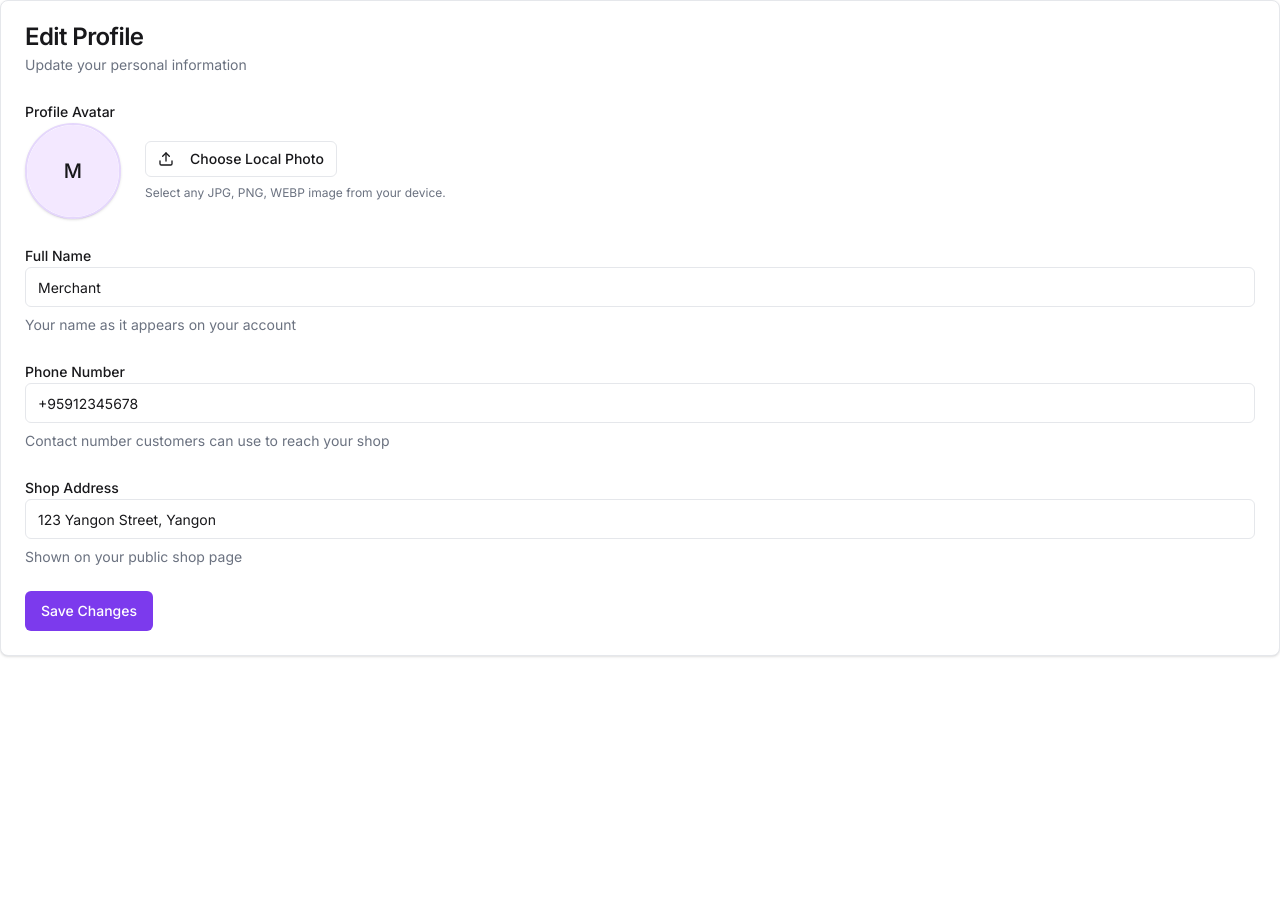
Test: ProfileForm shop contact fields › blocks saving when a merchant clears only the name
Clear the field labelled "Full Name" at (640, 287), box [25,267,1255,307]
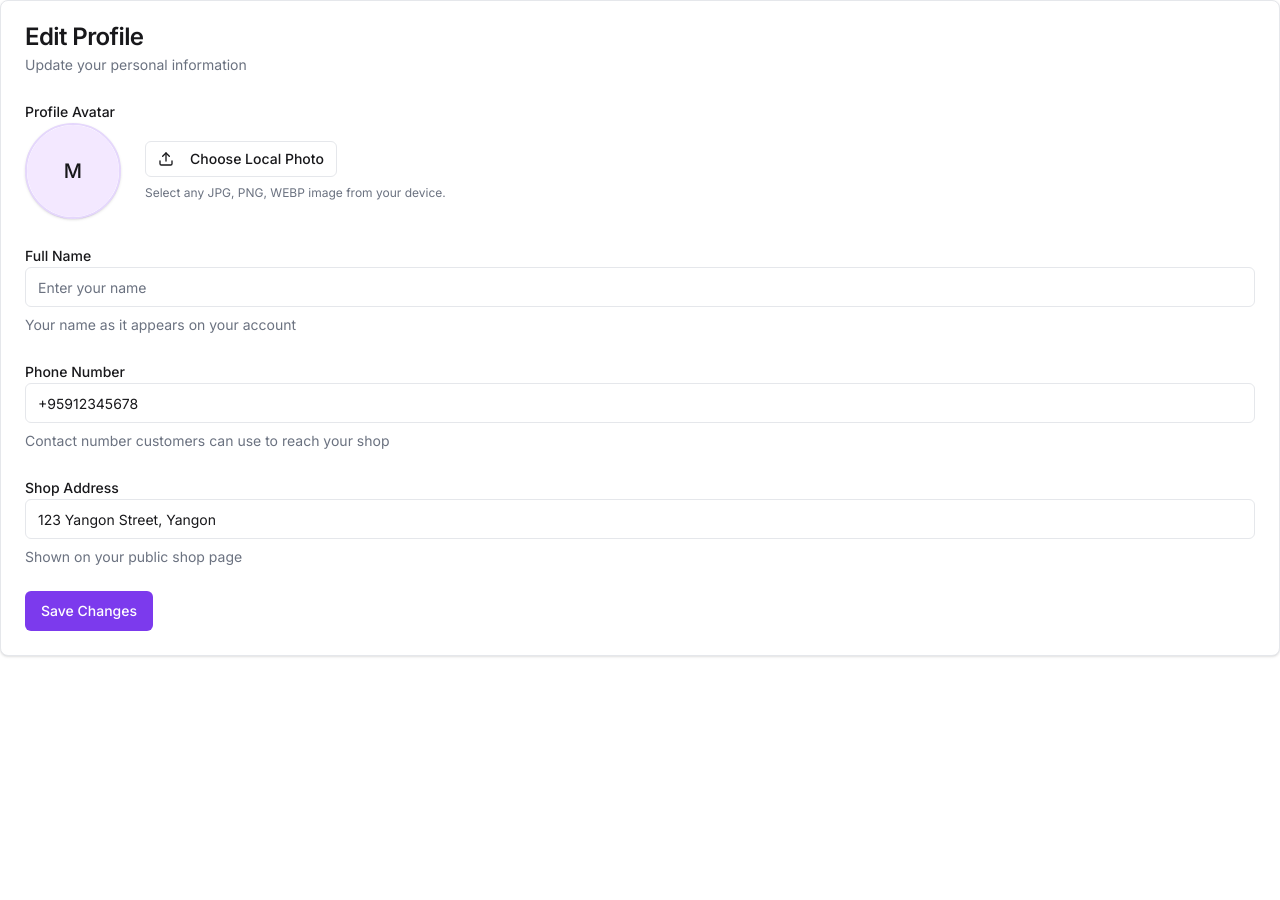
Click the button "Save Changes" at (89, 611), box [25,591,153,631]
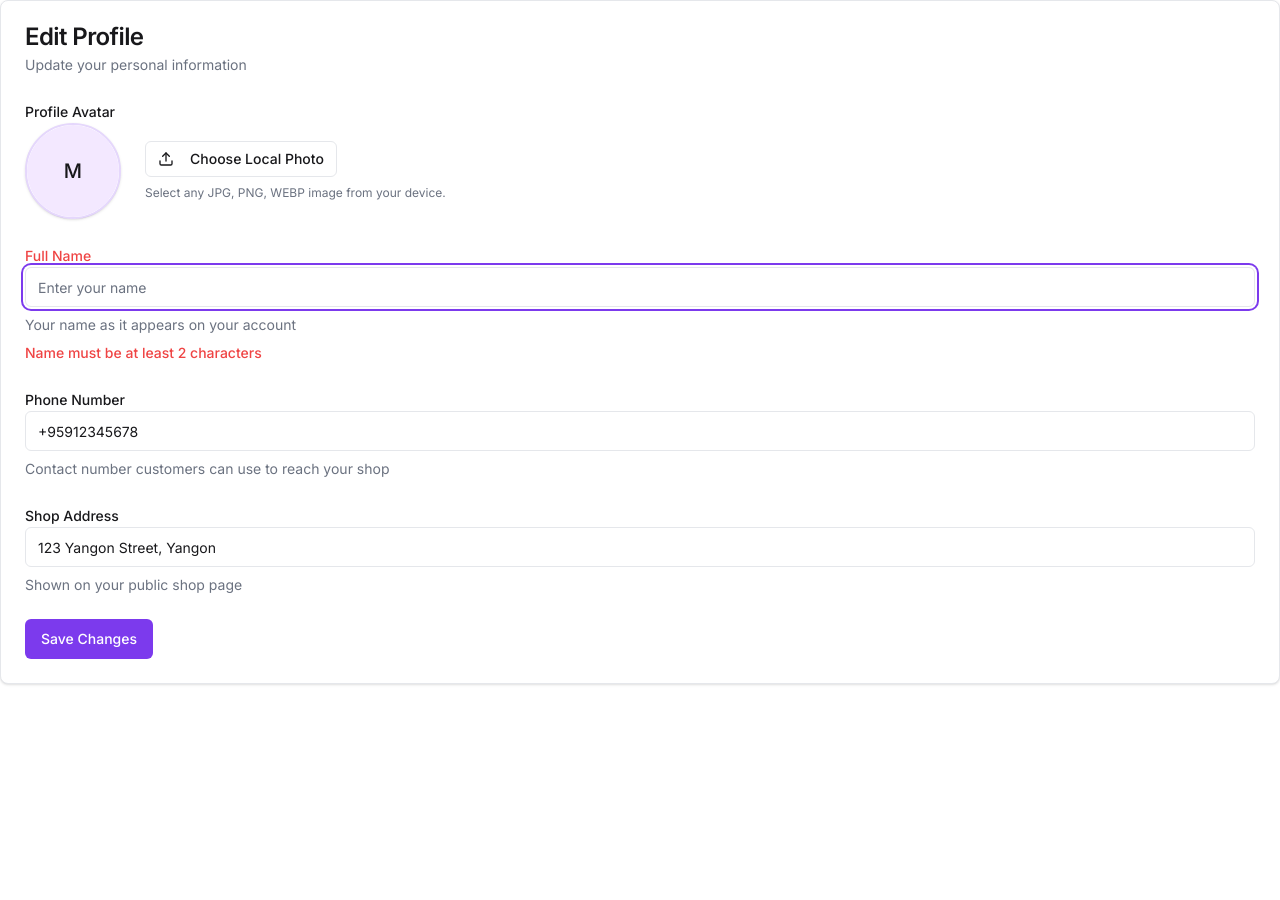
Now the text "Name must be at least 2 characters" is shown, box [25,344,262,361]
